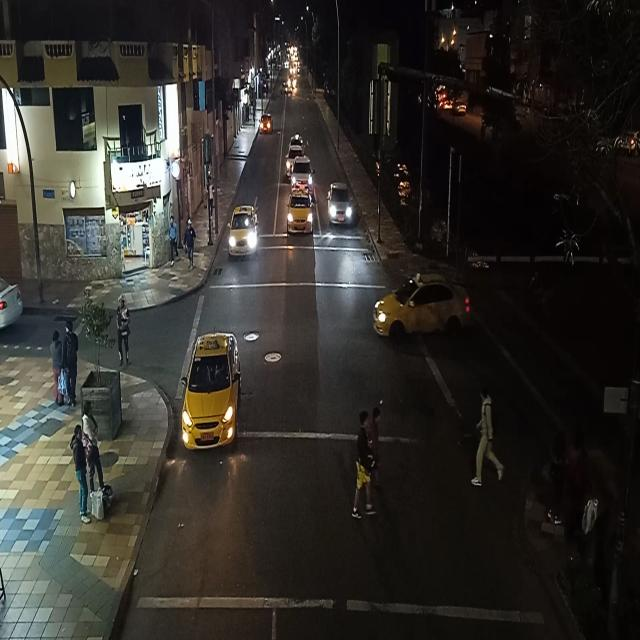CMT: (288, 158, 312, 193)
SED: (182, 336, 240, 451), (374, 278, 470, 338), (231, 210, 258, 258), (288, 196, 312, 234)
